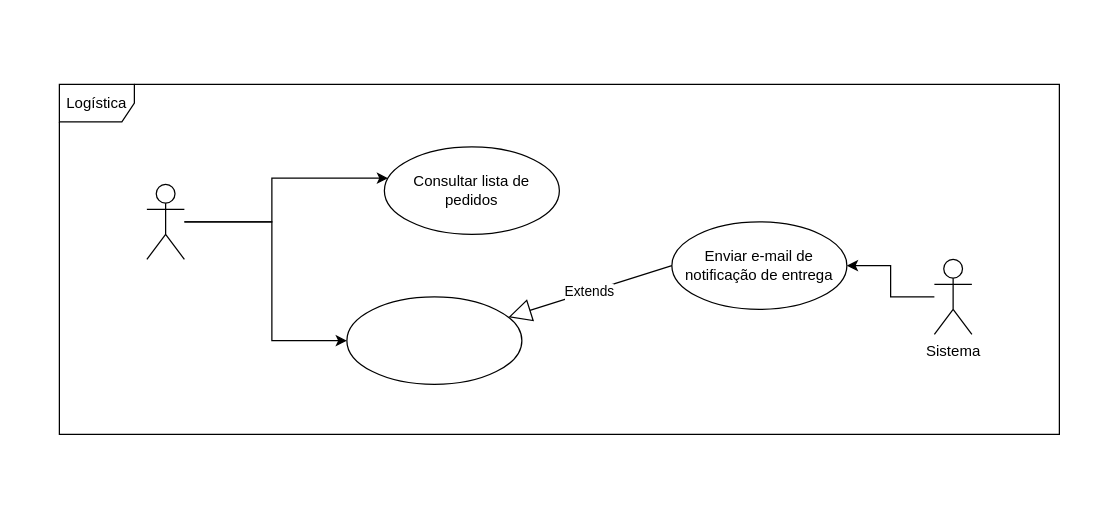
Some shapes in this 1118 by 518 pixel diagram are drawn without their labels. The shapes that lost their labels are listed below. From the top down, each one's centre as x and y in pixels, then its label:
the point at 165,221: Entregador
the point at 434,340: Registrar entrega de pedido
